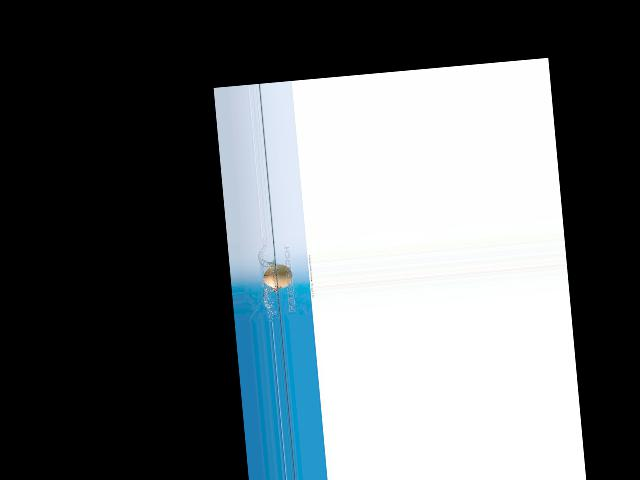egg: (262, 262, 293, 289)
